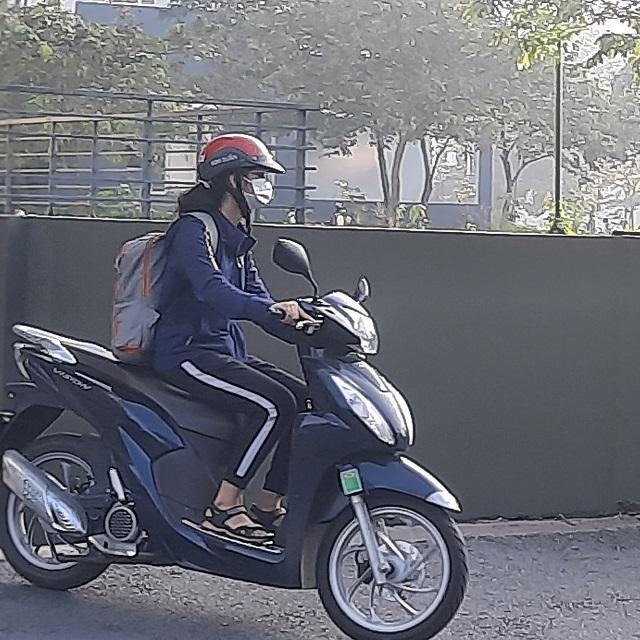Helmet: (194, 130, 286, 214)
